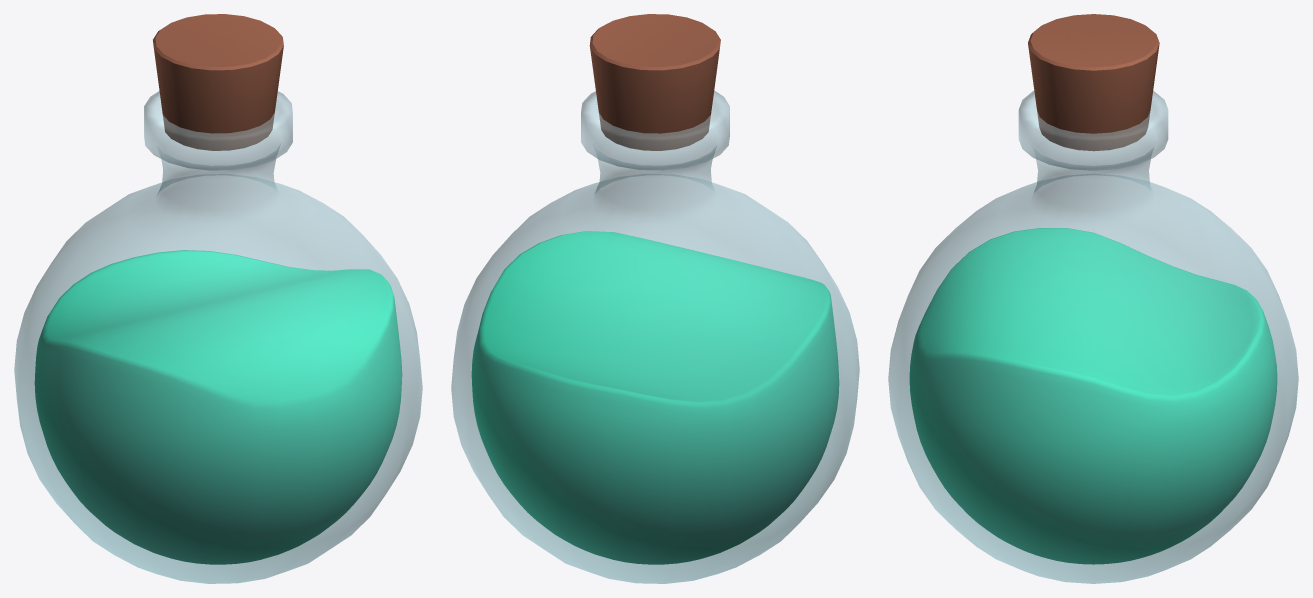
Rendered from PocionRana.fbx.
3 renders of one model, left to right at view 1: azimuth 30°, elevation 25°; view 2: azimuth 150°, elevation 25°; view 3: azimuth 270°, elevation 25°, orthographic.
Parts seen in each view (by area): view 1: Botella, Liquido, Corcho; view 2: Botella, Liquido, Corcho; view 3: Botella, Liquido, Corcho.
Part boxes in pixels (x1,y1,x2,y2): Botella: [14, 91, 422, 583]; Liquido: [34, 250, 402, 564]; Corcho: [153, 14, 283, 150]; Botella: [451, 91, 859, 583]; Liquido: [471, 231, 839, 564]; Corcho: [589, 14, 720, 150]; Botella: [888, 91, 1298, 583]; Liquido: [909, 228, 1277, 564]; Corcho: [1028, 14, 1159, 151].
Size of the model in its own units: 0.803 by 1.13 by 0.803.
